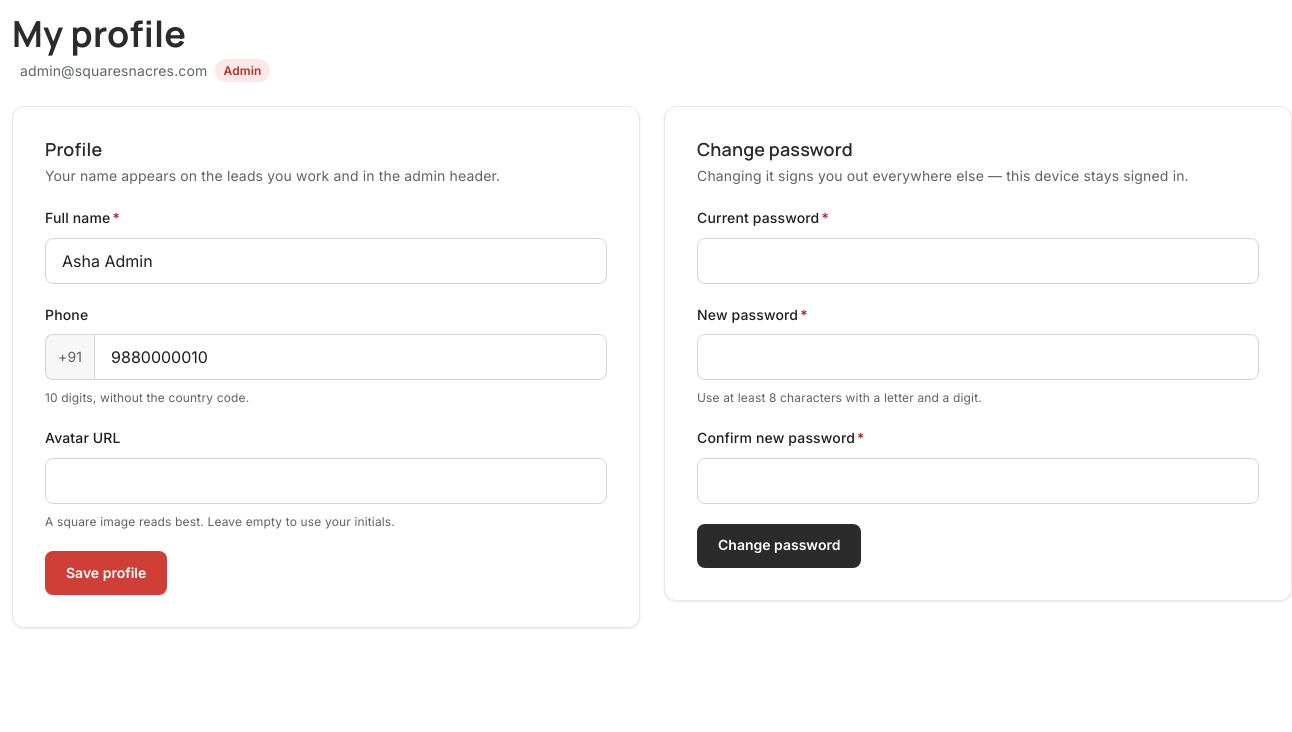
Test: ProfilePage — the profile form (QA-65) › refuses a one-letter name before asking the API, with the cursor in it
Replace the text in the field labelled "Full name*" with "A" at x=326, y=261, box x1=45 y1=238 x2=607 y2=284
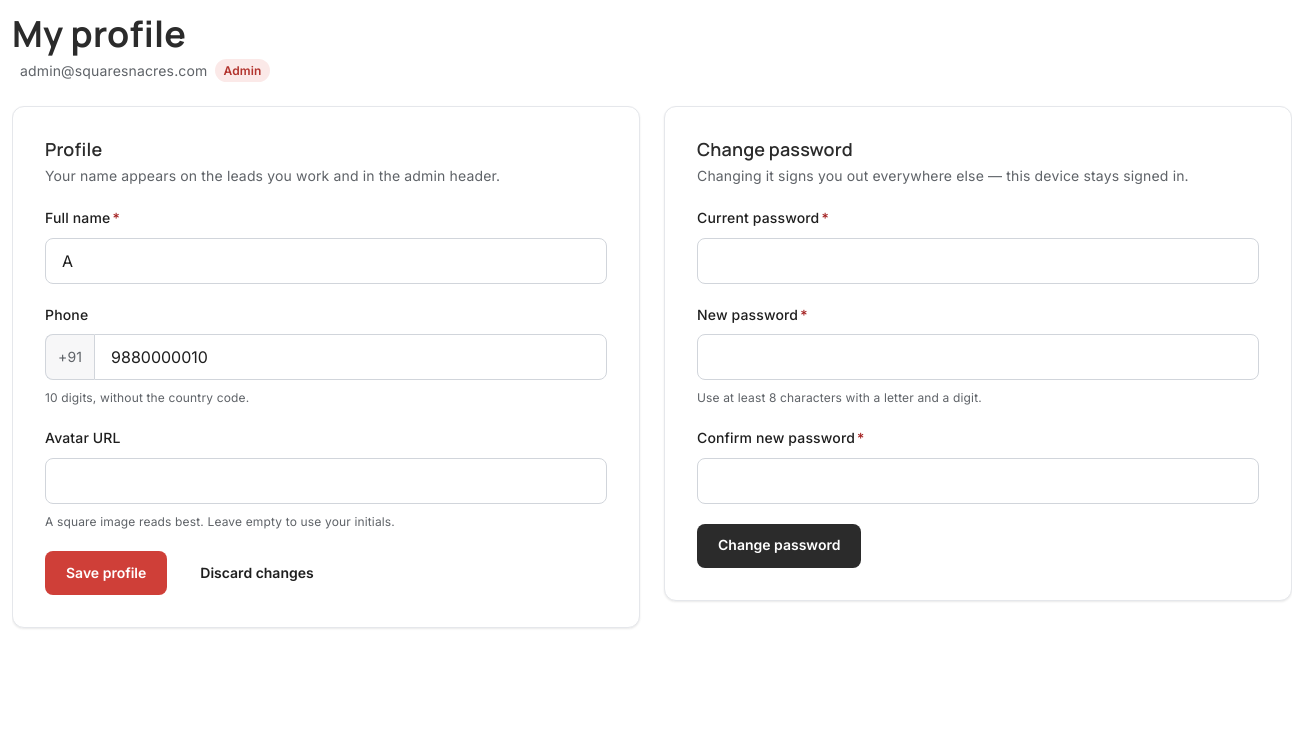
Click the button "Save profile" at x=106, y=573, box x1=45 y1=551 x2=167 y2=595
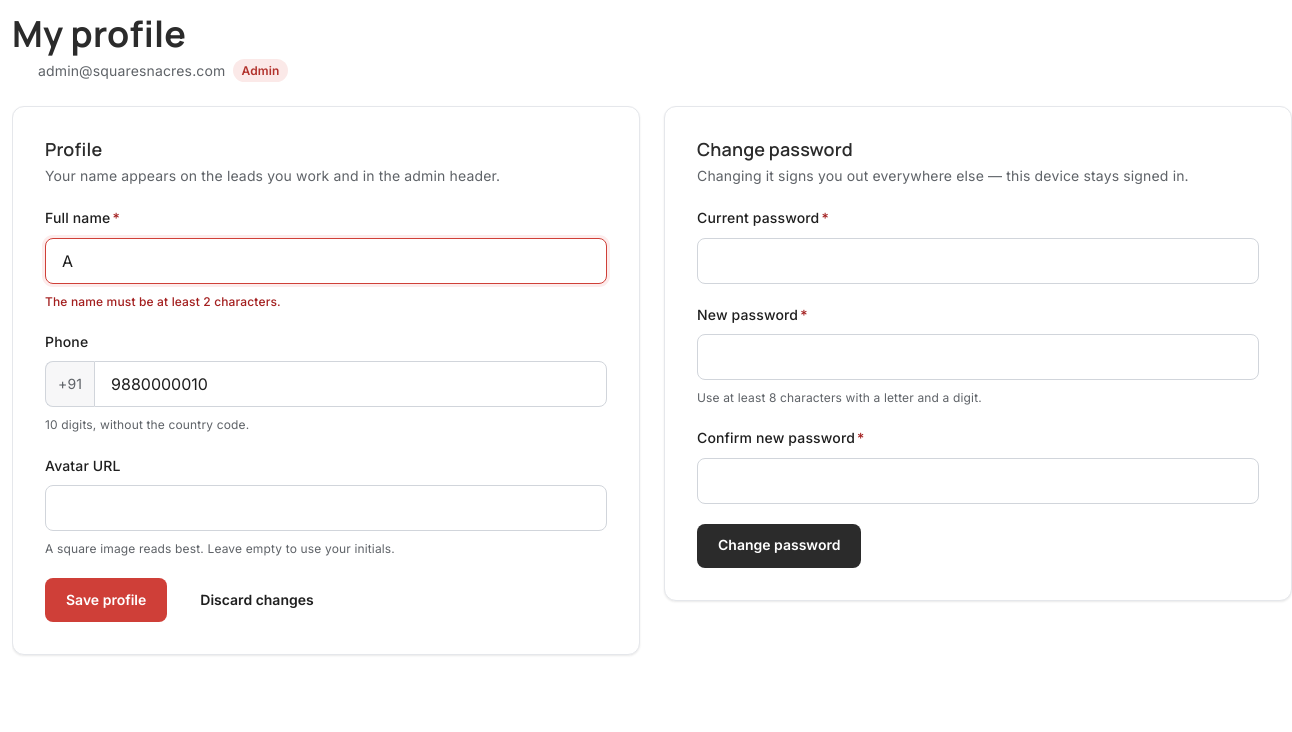
Now the text "The name must be at least 2 characters." is shown, box x1=45 y1=294 x2=281 y2=309
